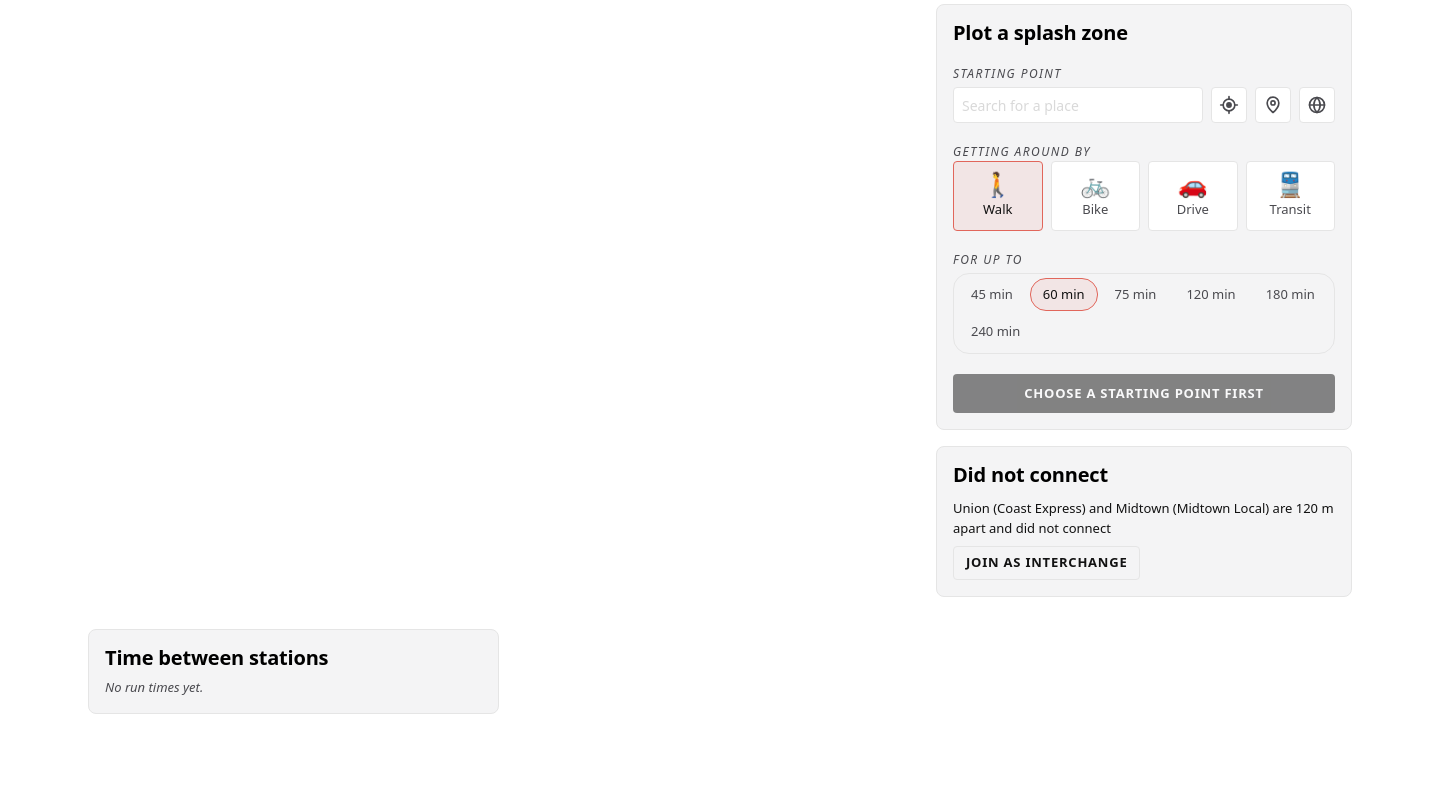
Test: AuthoredScenarioView joining near misses into interchanges › says it is recompiling for the interchange, and holds every button until it has
(page scrolled)
Step 1. Click the button with test id "join-interchange" → {"x": 1047, "y": 563}, box [953,546,1140,580]
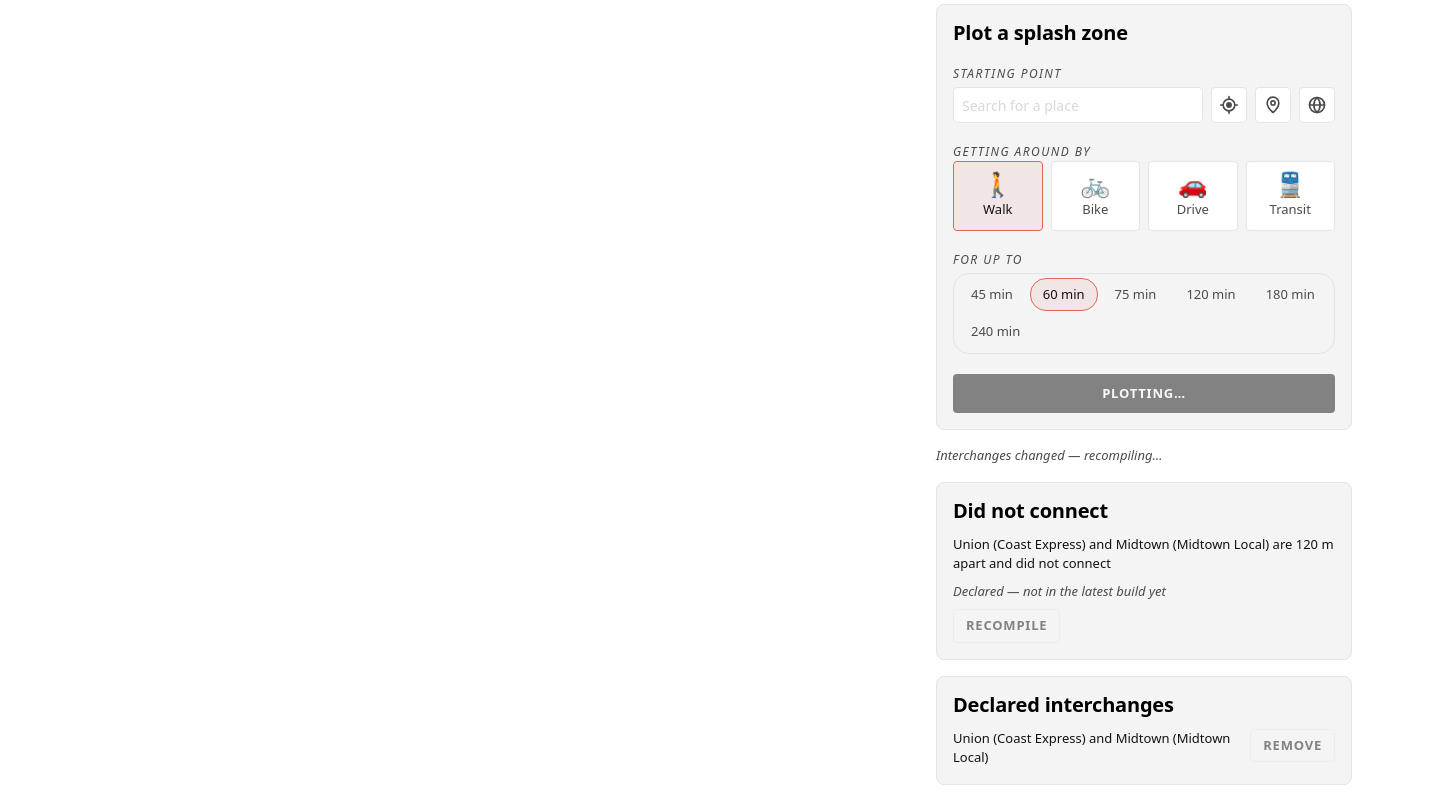
Expected: the message with test id "recompiling-status" reads "Interchanges changed — recompiling…", [936,446,1162,464]
Expected: the button with test id "recompile-interchange" is disabled, [953,609,1060,643]
Expected: the button with test id "remove-interchange" is disabled, [1250,729,1335,762]
